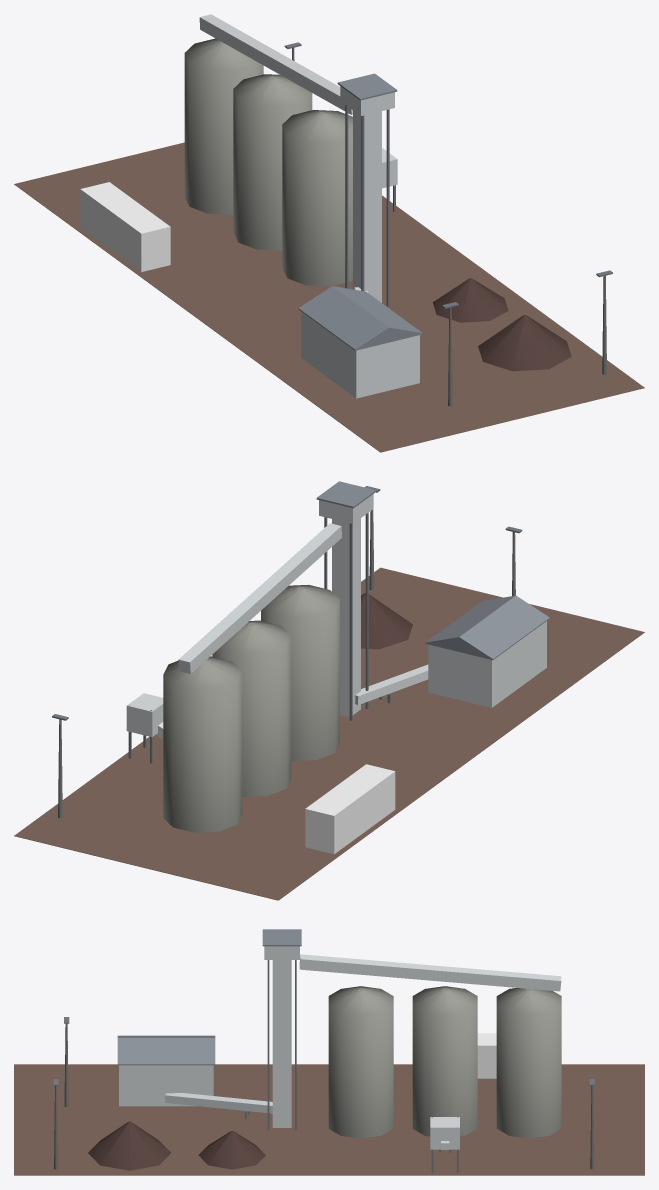
Rendered from top-prebuilt_far.fbx.
3 renders of one model, top to bottom at view 1: azimuth 30°, elevation 25°; view 2: azimuth 150°, elevation 25°; view 3: azimuth 270°, elevation 25°, orthographic. The views are drawn at different scales.
Visible parts, largest first — view 1: a1077_0_top-prebuilt_far; view 2: a1077_0_top-prebuilt_far; view 3: a1077_0_top-prebuilt_far.
Part boxes in pixels (bbox=[...]): a1077_0_top-prebuilt_far: bbox=[14, 14, 644, 452]; a1077_0_top-prebuilt_far: bbox=[14, 481, 644, 900]; a1077_0_top-prebuilt_far: bbox=[14, 929, 644, 1175].
Bounding box in the file's own units: 50 × 39.3 × 120.
